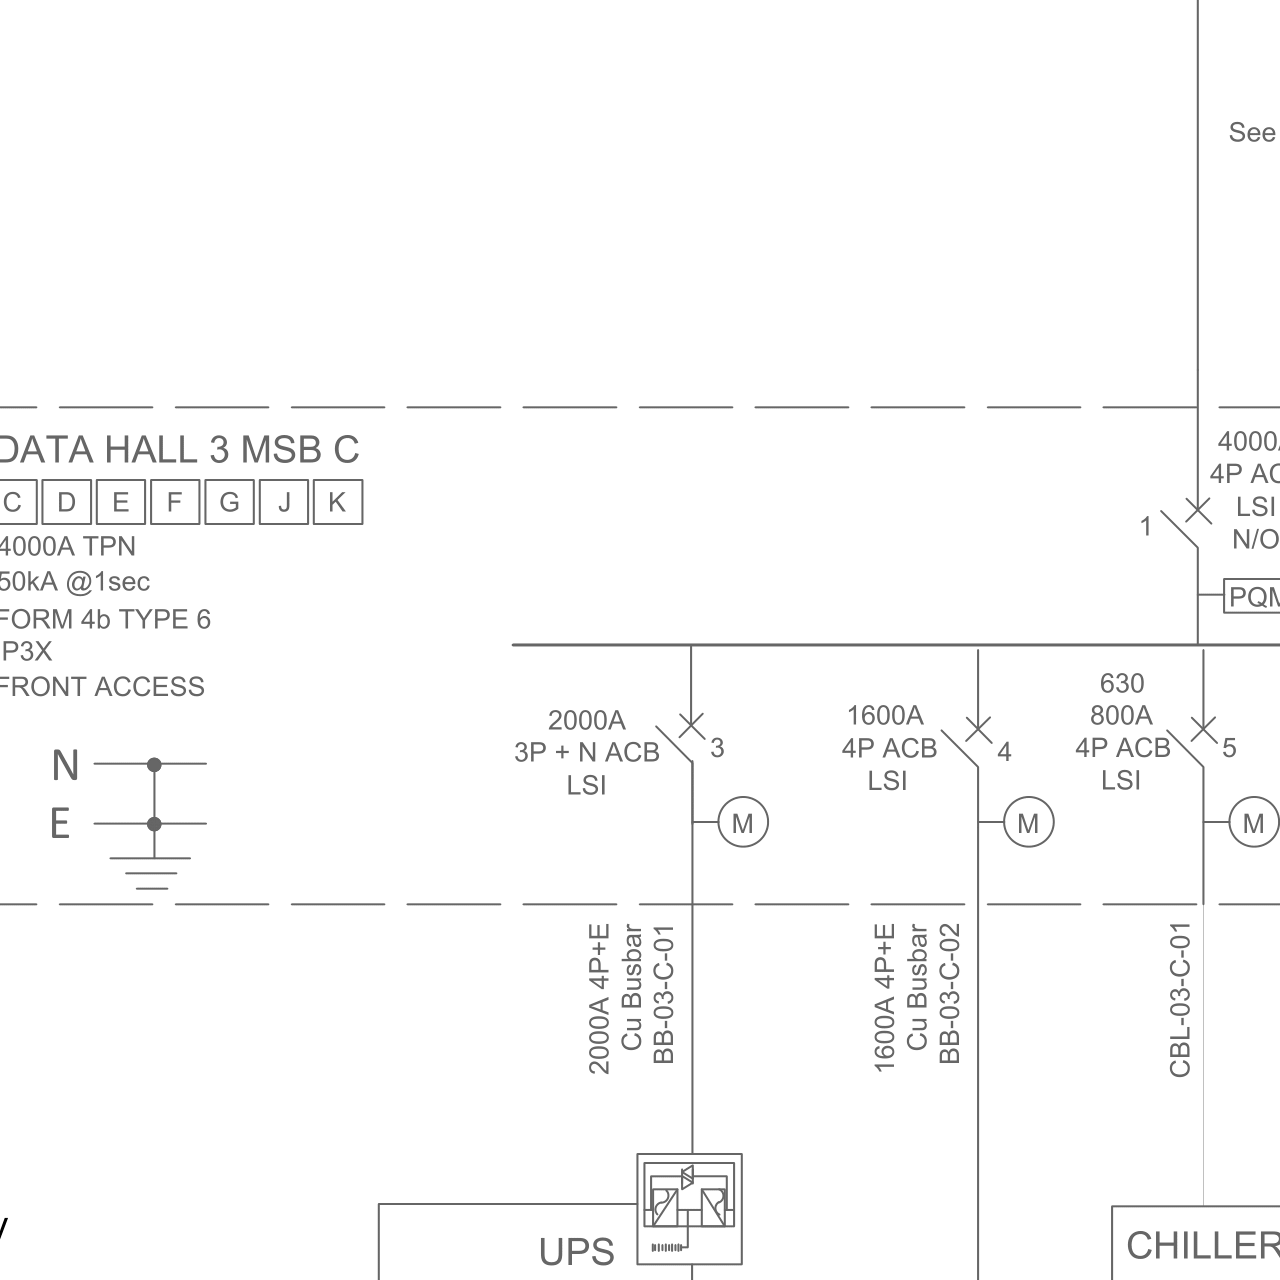UPS: (627, 1146, 756, 1273)
